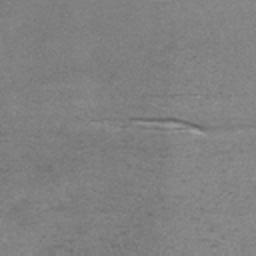Finishing roll printing: (129, 118, 206, 135)
